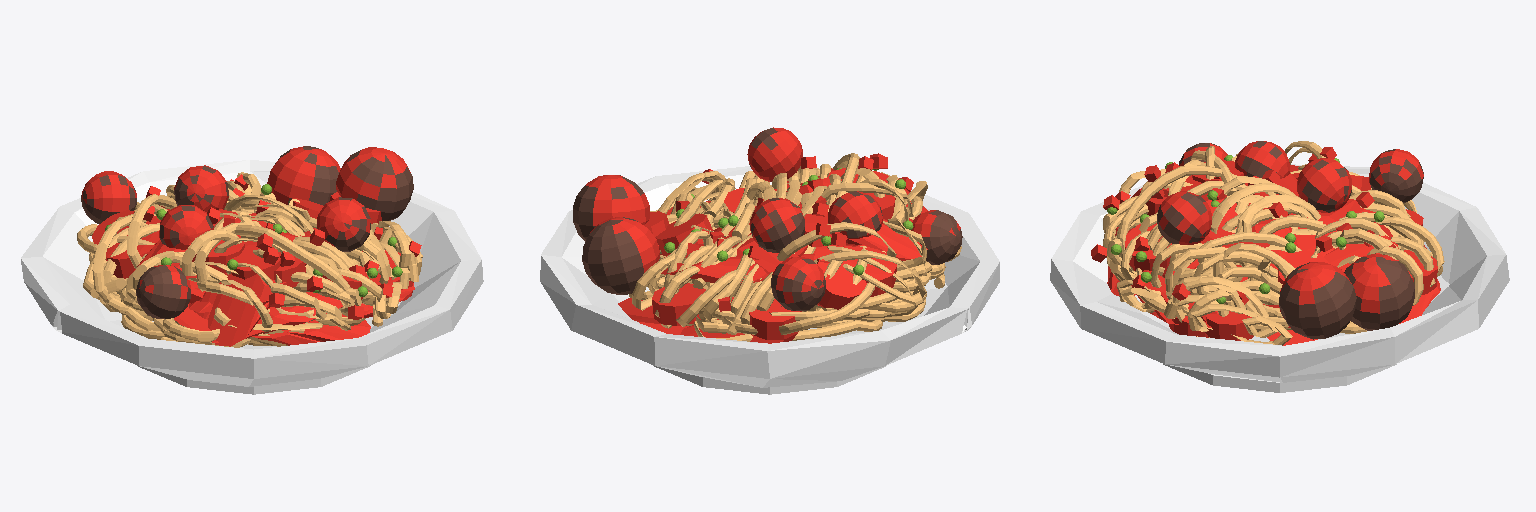
File: pastaObject3.obj
The picture shows the model from 3 angles: view 1: azimuth 30°, elevation 25°; view 2: azimuth 150°, elevation 25°; view 3: azimuth 270°, elevation 25°; orthographic projection.
Parts seen in each view (by area): view 1: Object.1; view 2: Object.1; view 3: Object.1.
Boxes of the visible parts, <box> form: Object.1: <box>21,146,483,394</box>; Object.1: <box>540,127,999,394</box>; Object.1: <box>1050,141,1509,392</box>.
Bounding box in the file's own units: 10.78 × 4.21 × 10.79.